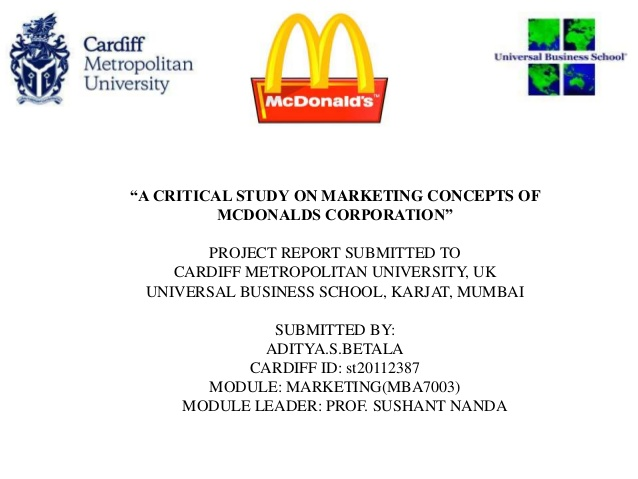mcdonalds: (264, 10, 376, 95)
